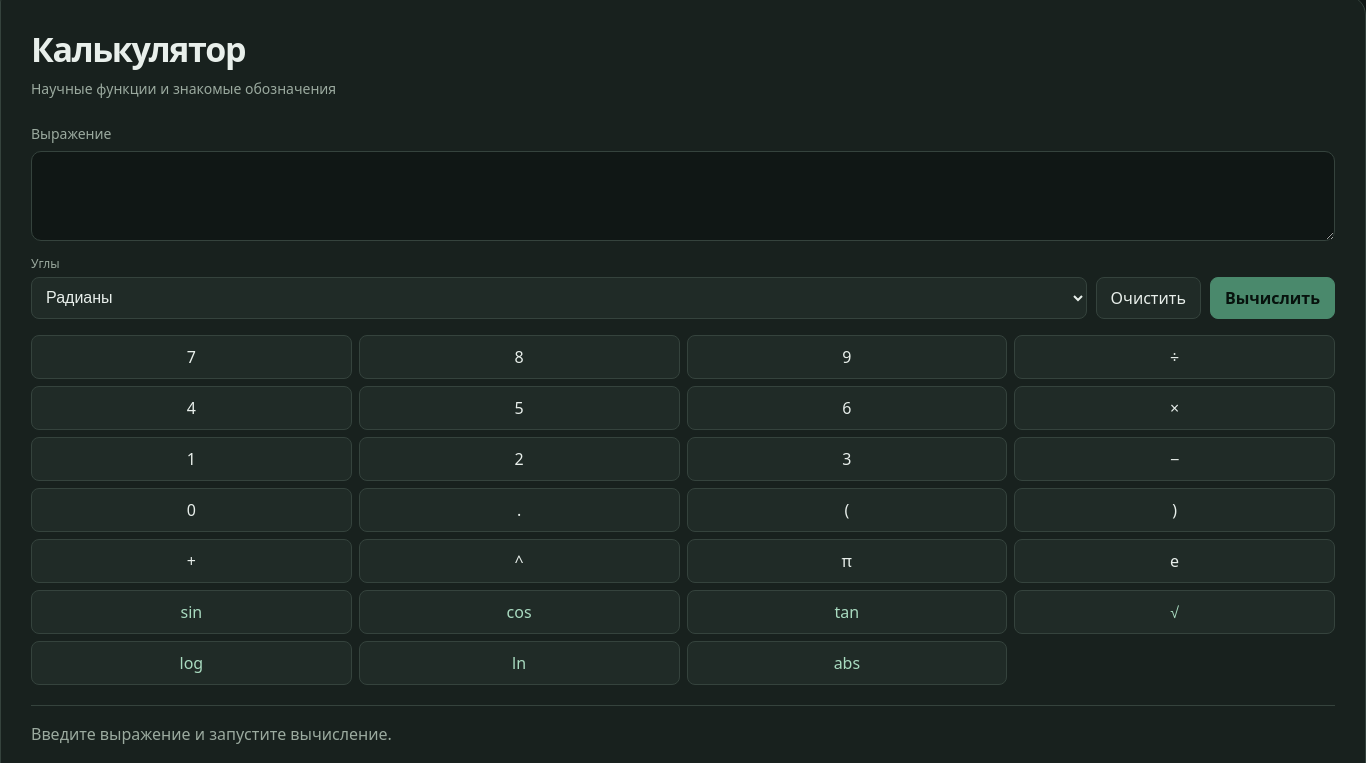
CalculatorView › preserves useful precision when formatting decimal results
Type "1.23456789012345" into the text box named "математическое выражение" at (683, 196), box [31, 151, 1335, 241]
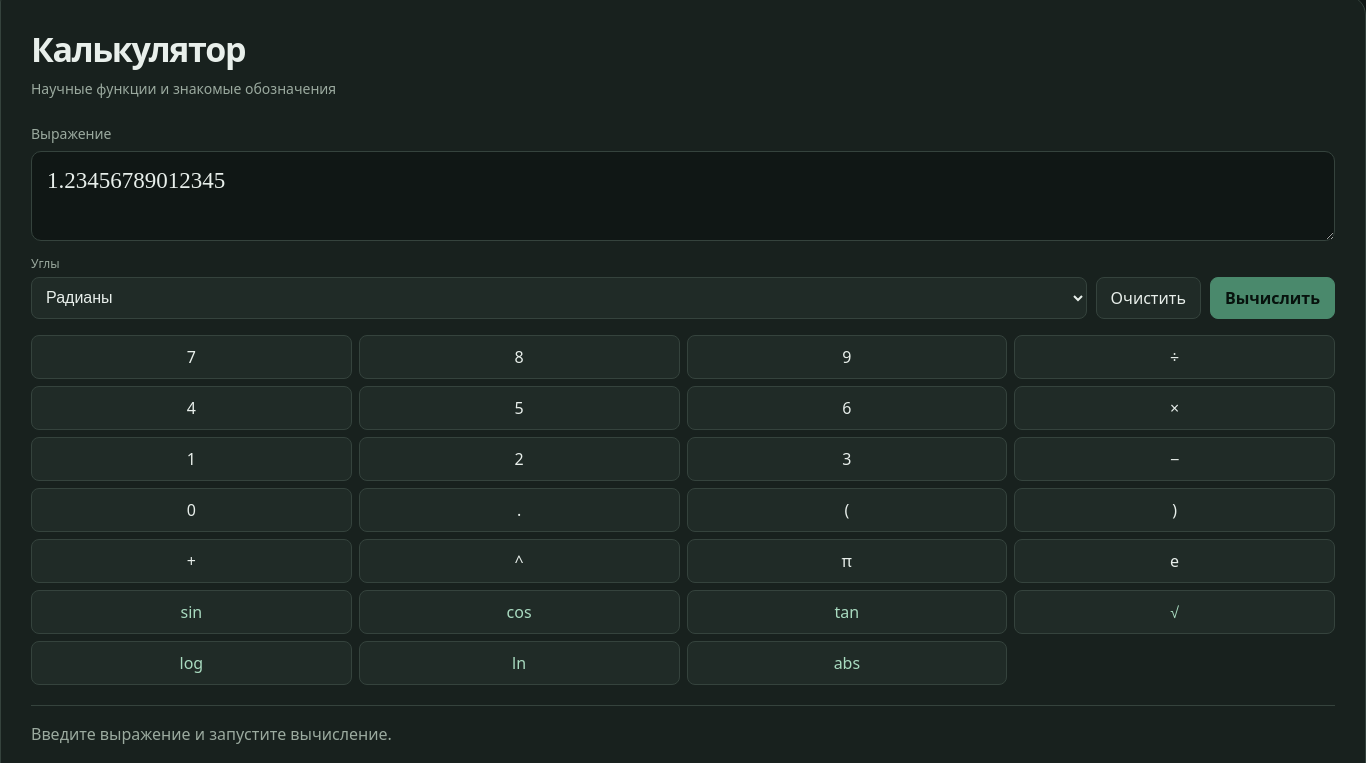
Click the button "Вычислить" at (1272, 298), box [1210, 277, 1335, 319]
(page scrolled)
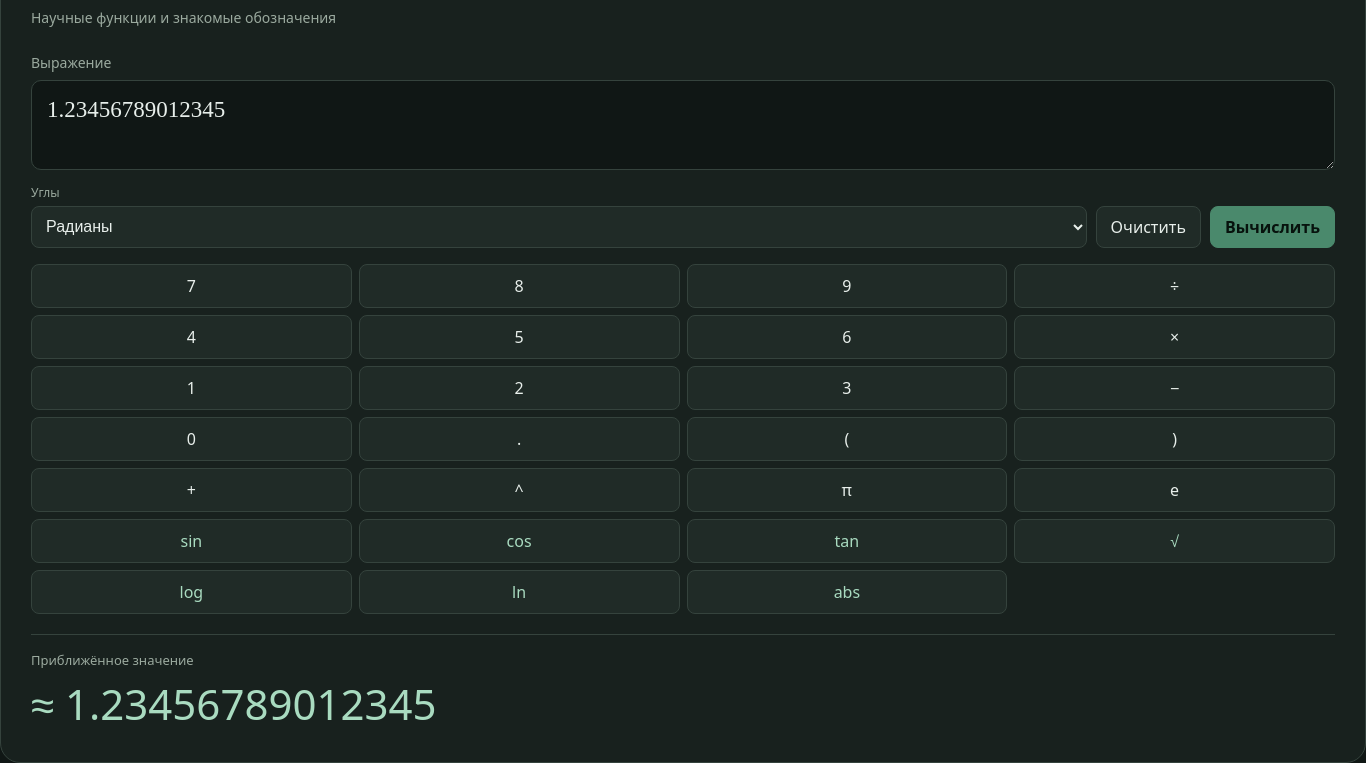
Now the text "≈ 1.23456789012345" is shown, box [31, 675, 437, 732]
